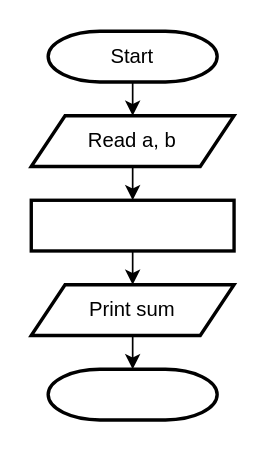
Image size: 264x450. Some labels were removed from this diagram. The centre of each missing label's shape, as x and y in pixels:
End: point 132,394
Set sum ← a+b: point 132,225
